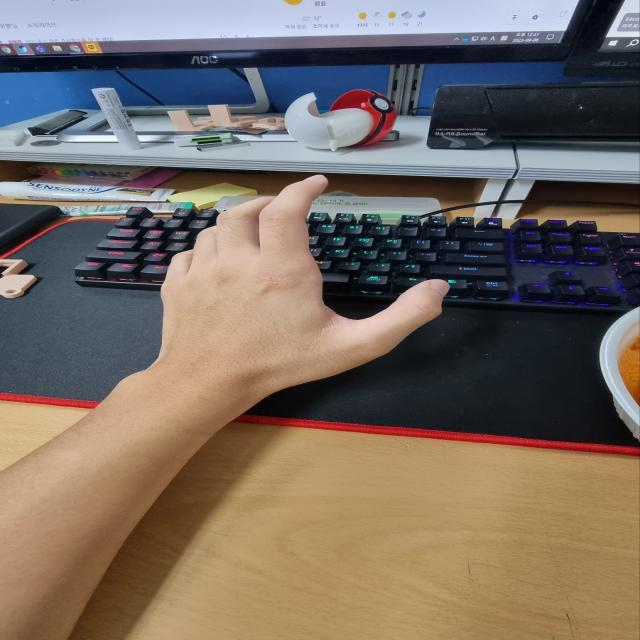keyboard-with-hands: (61, 203, 640, 312)
